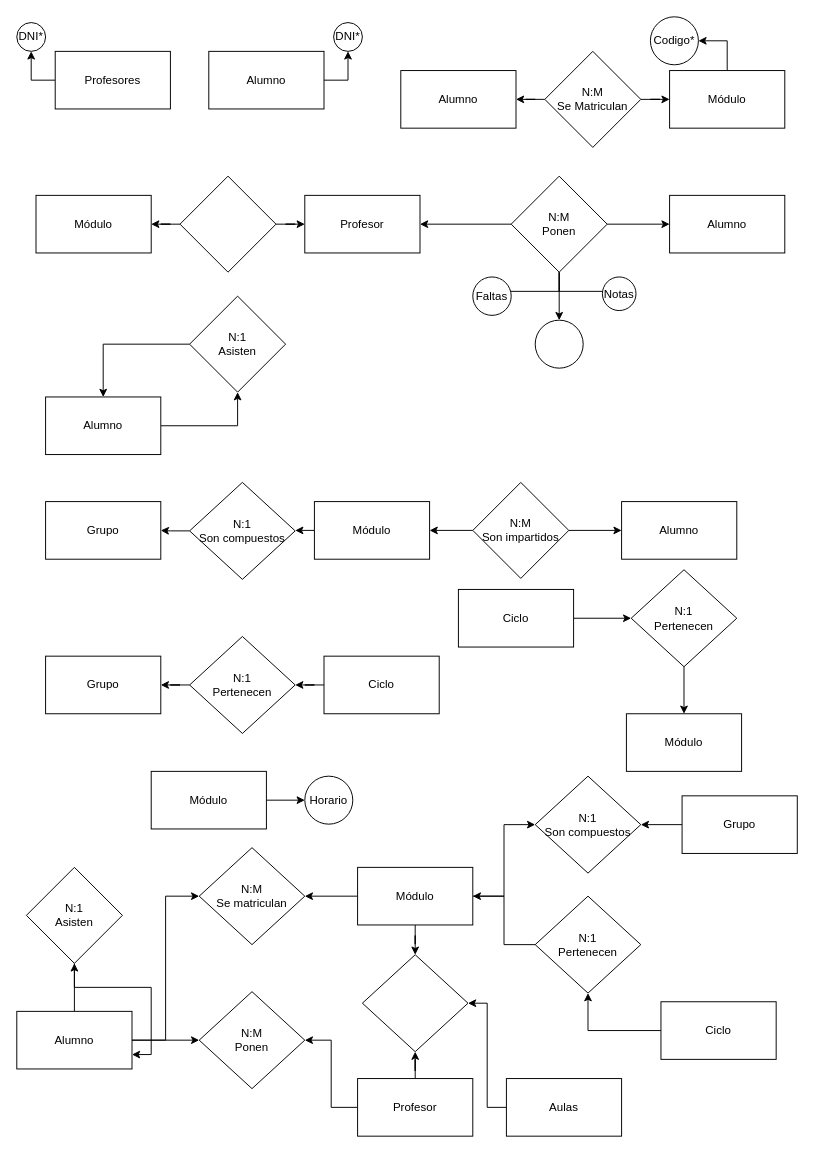
Some shapes in this 814 by 1153 pixel diagram are drawn without their labels. Here are the shapes that lost their labels. From the top down, the centre of each, then its label:
At (x=227, y=223): "N:M Será impartido".
At (x=558, y=343): "Retraso".
At (x=414, y=1003): "N:M:K Será impartido".
